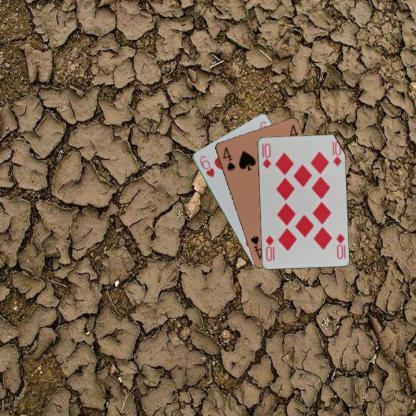10d: (258, 140, 272, 170), (334, 231, 346, 260)
4s: (220, 144, 236, 172)
6h: (197, 154, 216, 178)
